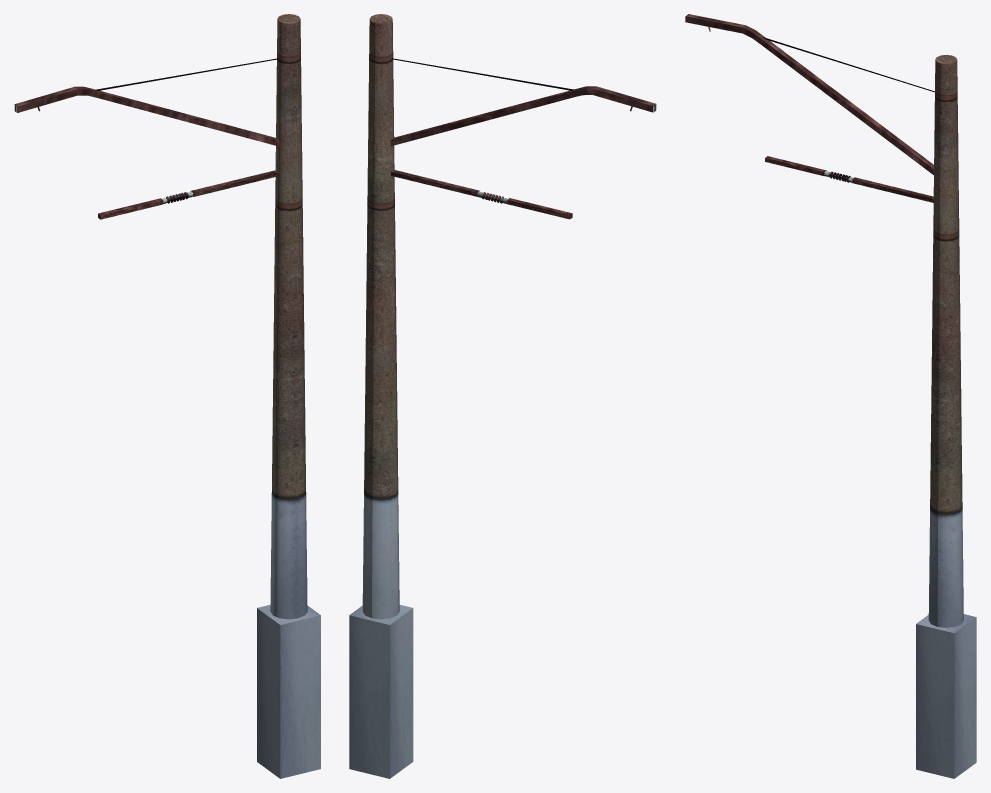
File: opk1r6.gltf
3 views of the same model, side by side, from view 1: azimuth 30°, elevation 25°; view 2: azimuth 150°, elevation 25°; view 3: azimuth 330°, elevation 25° (orthographic). The views are drawn at different scales.
Size of the model in its own units: 4.85 by 11.78 by 0.67.
1 material, 1 textured.
